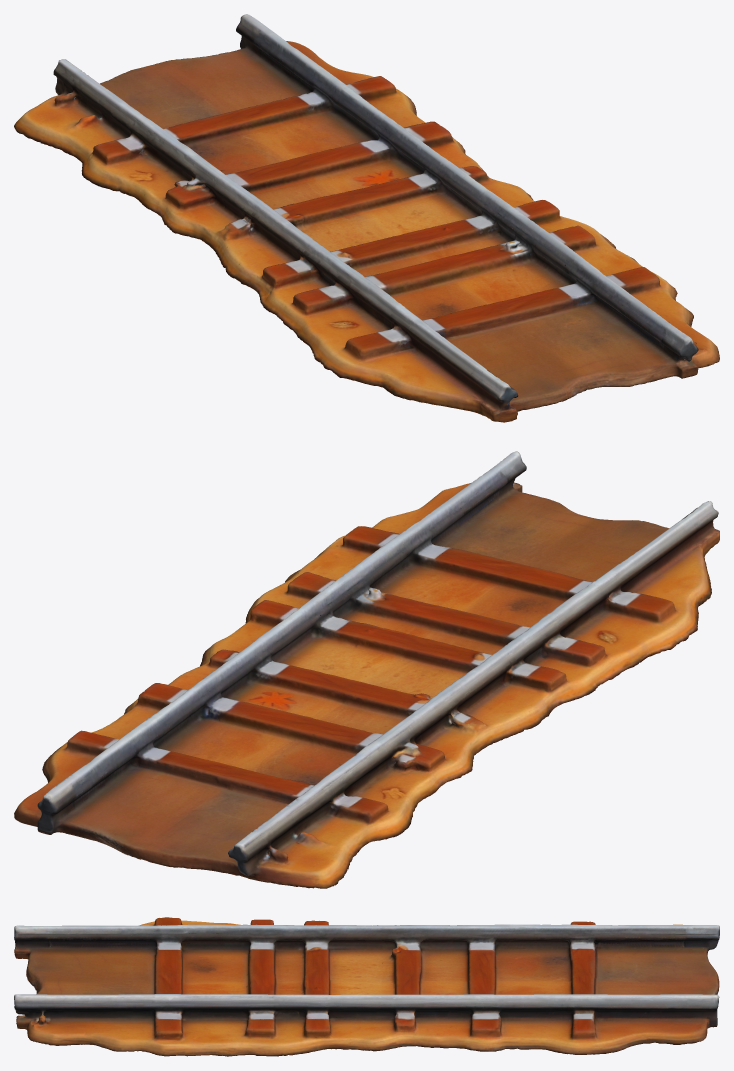
Rendered from Track.glb.
3 views of the same model, one above another, from view 1: azimuth 30°, elevation 25°; view 2: azimuth 150°, elevation 25°; view 3: azimuth 270°, elevation 25° (orthographic). The views are drawn at different scales.
Bounding box in the file's own units: 0.8858 × 0.1023 × 2.
Materials: 1 (1 with a texture image).
